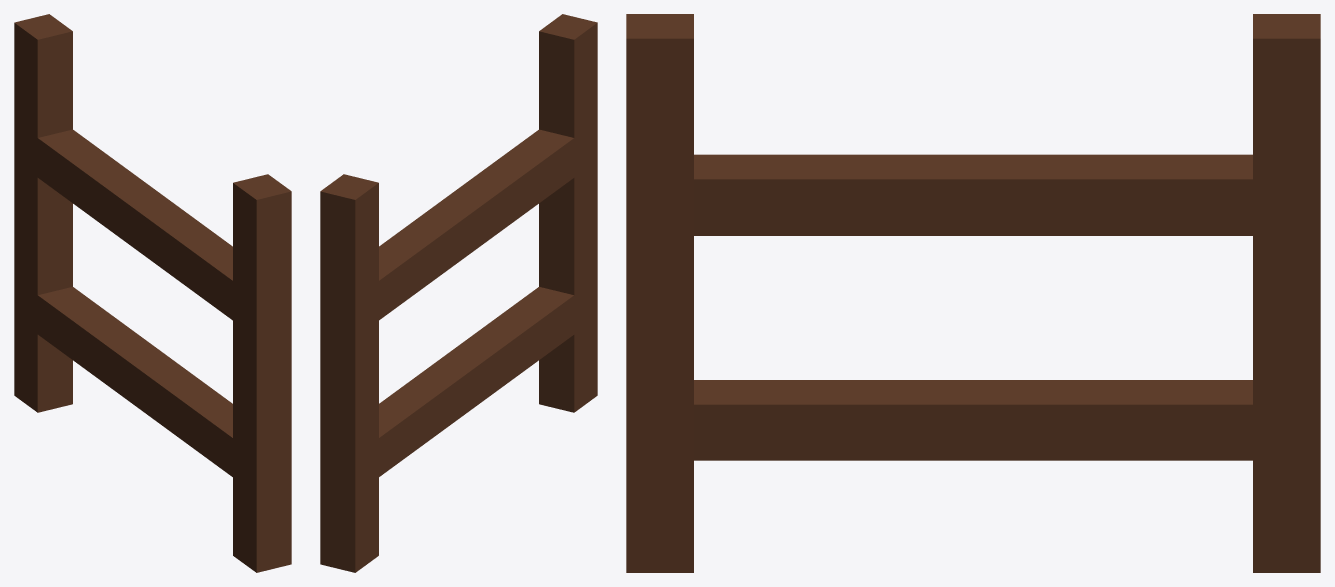
Rendered from Staccionata 2.fbx.
The picture shows the model from 3 angles, left to right: view 1: azimuth 30°, elevation 25°; view 2: azimuth 150°, elevation 25°; view 3: azimuth 270°, elevation 25°; orthographic projection. The views are drawn at different scales.
Visible parts, largest first — view 1: Steccato 1; view 2: Steccato 1; view 3: Steccato 1.
Boxes of the visible parts, left/top/right/bottom form: Steccato 1: left=14, top=14, right=291, bottom=572; Steccato 1: left=320, top=14, right=597, bottom=572; Steccato 1: left=626, top=14, right=1320, bottom=572.
Size of the model in its own units: 18.69 by 189 by 223.
